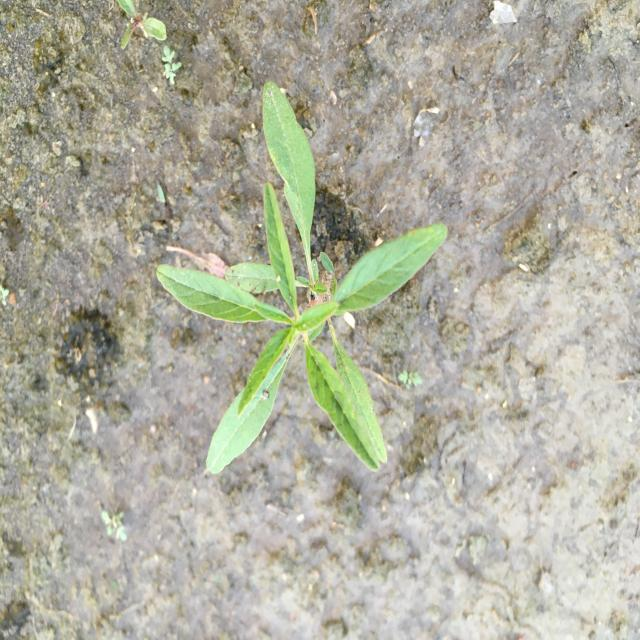Waterhemp: (154, 80, 449, 476)
